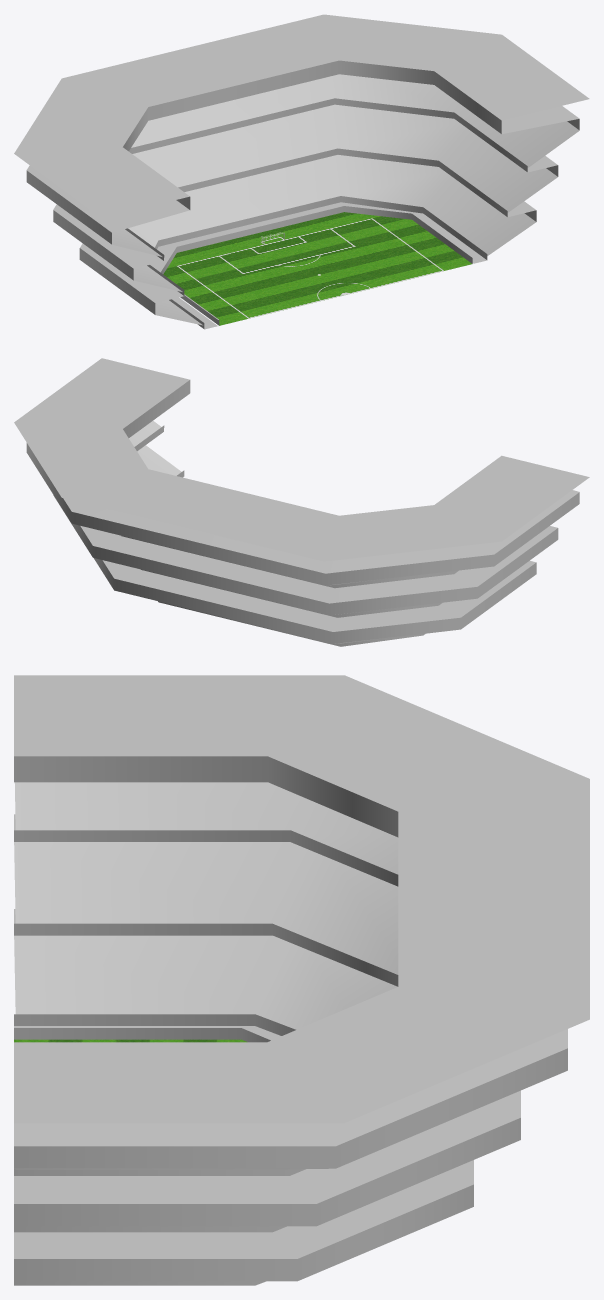
Rendered from stadion_rev.FBX.
3 views of the same model, one above another, from view 1: azimuth 30°, elevation 25°; view 2: azimuth 150°, elevation 25°; view 3: azimuth 270°, elevation 25° (orthographic). The views are drawn at different scales.
Parts seen in each view (by area): view 1: soccer_field, Object01; view 2: soccer_field; view 3: soccer_field, Object01.
Part boxes in pixels (x1,y1,x2,y2): soccer_field: (14, 14, 589, 329); Object01: (163, 212, 471, 325); soccer_field: (14, 358, 589, 646); soccer_field: (14, 675, 589, 1285); Object01: (14, 1039, 247, 1042).
Size of the model in its own units: 562052 by 150315 by 305413.
